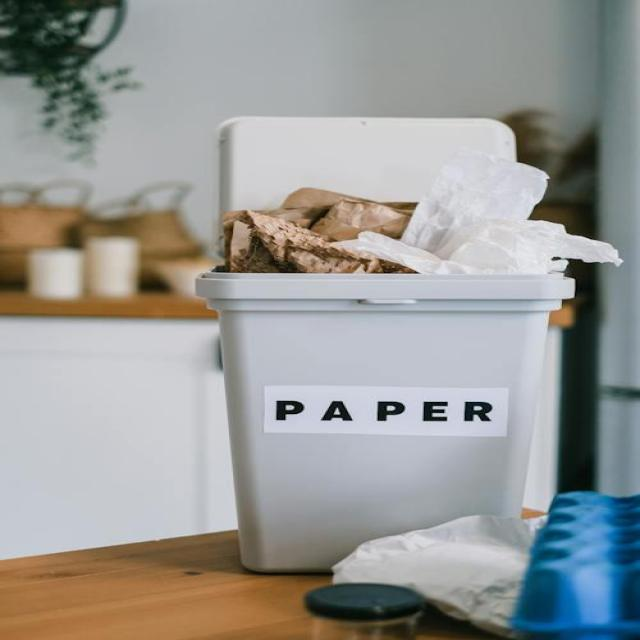trash: (226, 167, 574, 279)
